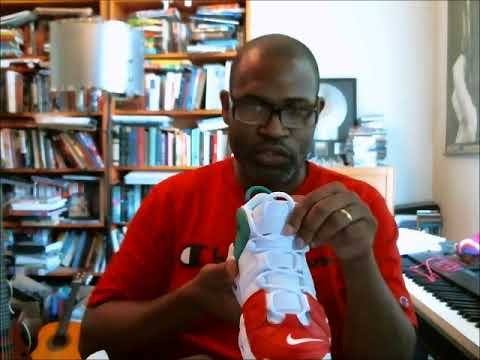Nike Air Uptempo '96 Italy: (213, 177, 340, 360)
